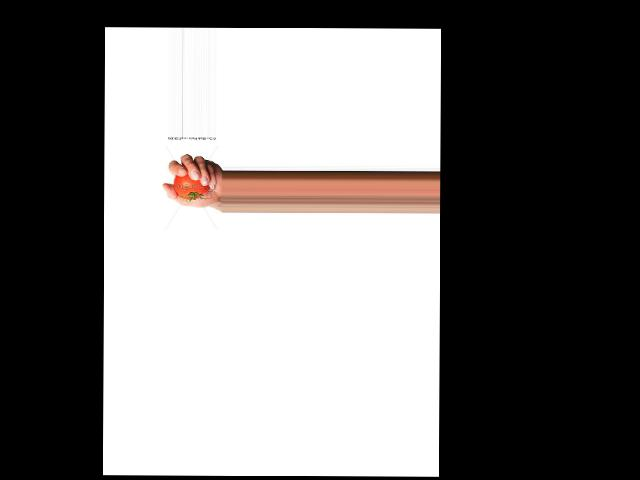tomato: (173, 174, 209, 199)
